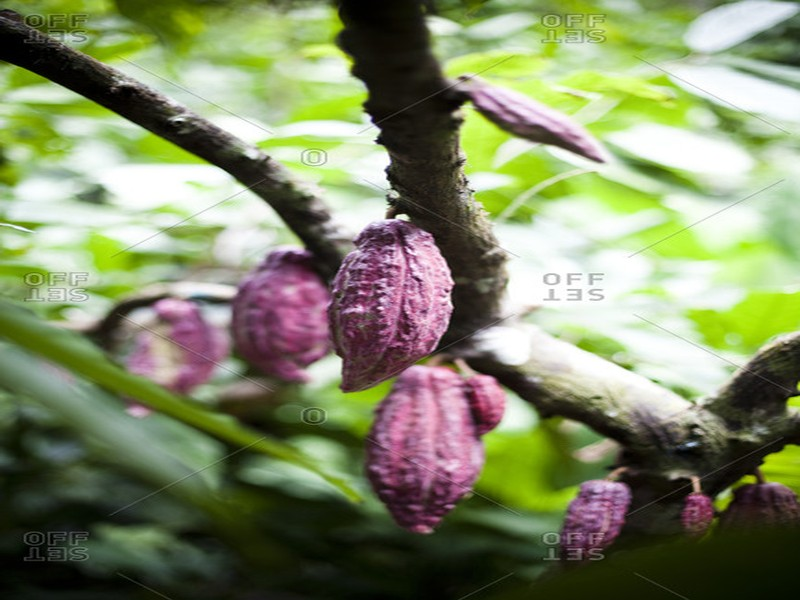Cacaopod: (328, 222, 454, 394)
